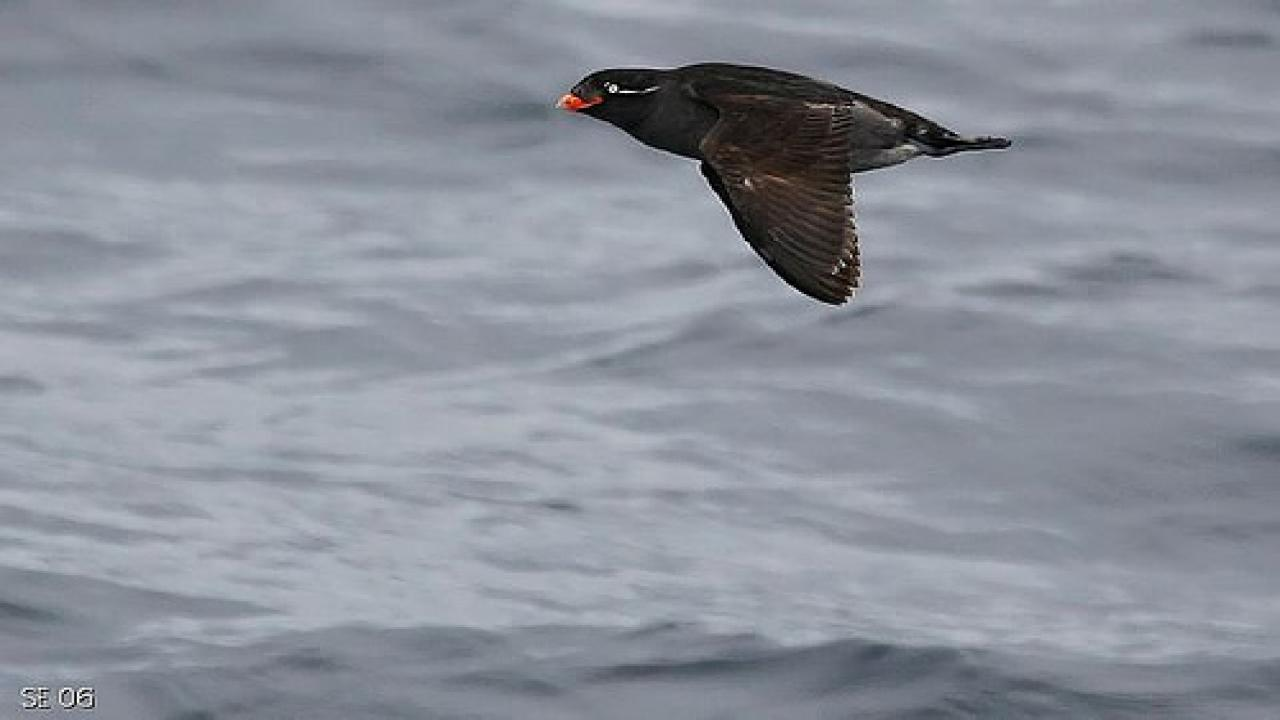Bird: (549, 53, 1020, 316)
